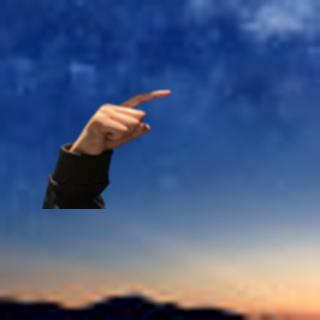WHY: (68, 83, 174, 155)
